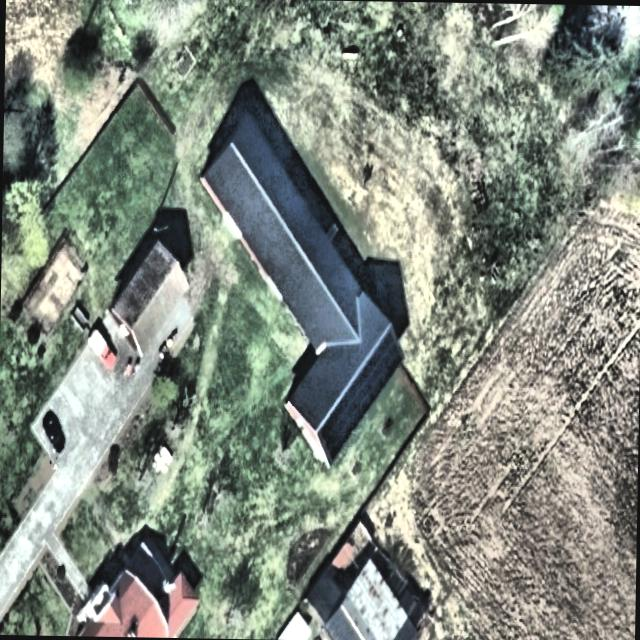roof_pv: (320, 391, 352, 469), (368, 328, 404, 392), (348, 354, 378, 428)
